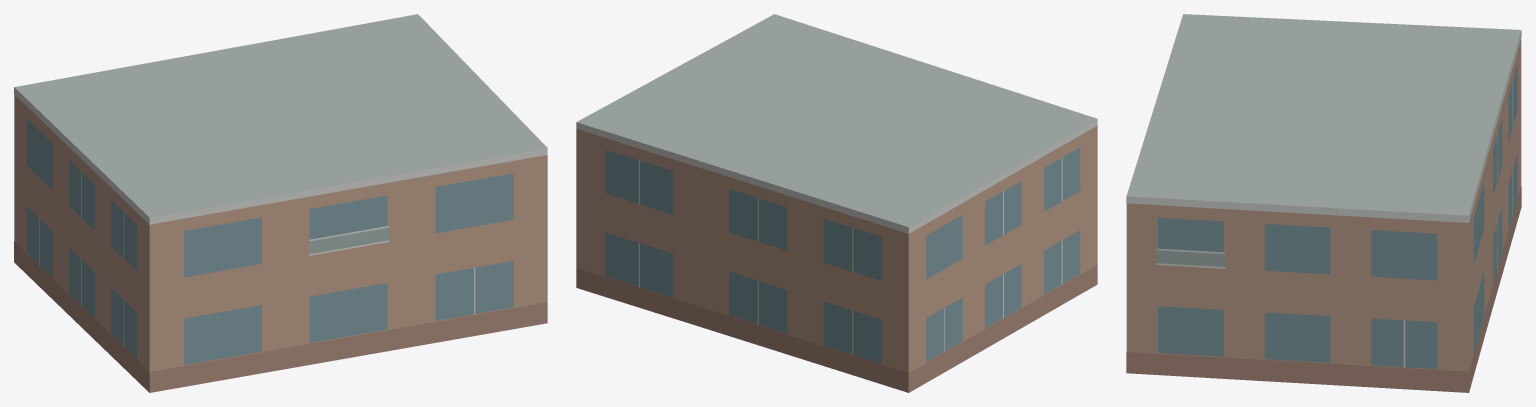
The model's file is survey-upis-32532661.glb.
The picture shows the model from 3 angles, left to right: view 1: azimuth 30°, elevation 25°; view 2: azimuth 150°, elevation 25°; view 3: azimuth 270°, elevation 25°; orthographic projection. The views are drawn at different scales.
Visible parts, largest first — view 1: survey-upis-32532661.tmp; view 2: survey-upis-32532661.tmp; view 3: survey-upis-32532661.tmp.
Boxes of the visible parts, left/top/right/bottom form: survey-upis-32532661.tmp: left=14, top=14, right=547, bottom=392; survey-upis-32532661.tmp: left=576, top=14, right=1097, bottom=392; survey-upis-32532661.tmp: left=1126, top=14, right=1521, bottom=392.
Size of the model in its own units: 14.95 by 6.1 by 12.36.
